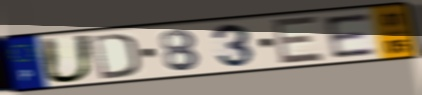3: (208, 22, 258, 69)
8: (160, 28, 201, 73)
D: (89, 31, 141, 81)
E: (321, 11, 380, 60), (272, 14, 327, 66)
U: (38, 33, 97, 85)
